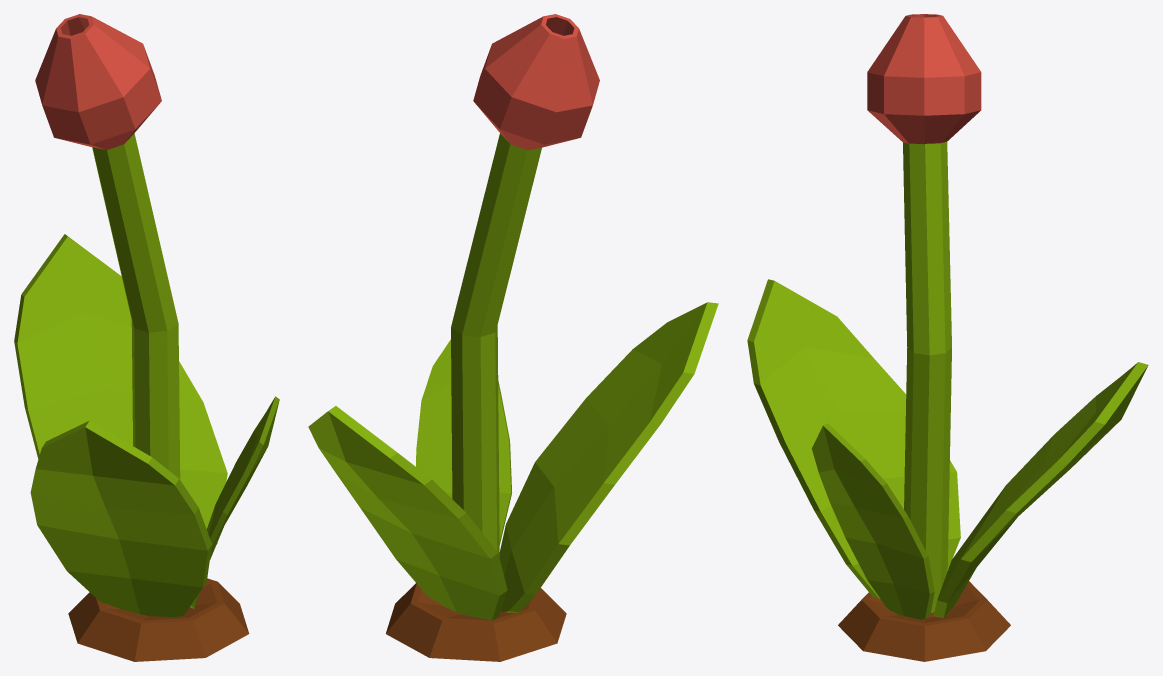
The model's file is FlowerStage3.fbx.
3 views of the same model, side by side, from view 1: azimuth 30°, elevation 25°; view 2: azimuth 150°, elevation 25°; view 3: azimuth 270°, elevation 25° (orthographic). The views are drawn at different scales.
Visible parts, largest first — view 1: Stage2; view 2: Stage2; view 3: Stage2.
Part boxes in pixels (bbox=[...]): Stage2: bbox=[14, 14, 279, 661]; Stage2: bbox=[308, 14, 718, 661]; Stage2: bbox=[747, 14, 1148, 661].
Bounding box in the file's own units: 4.05 × 9.32 × 5.87.
